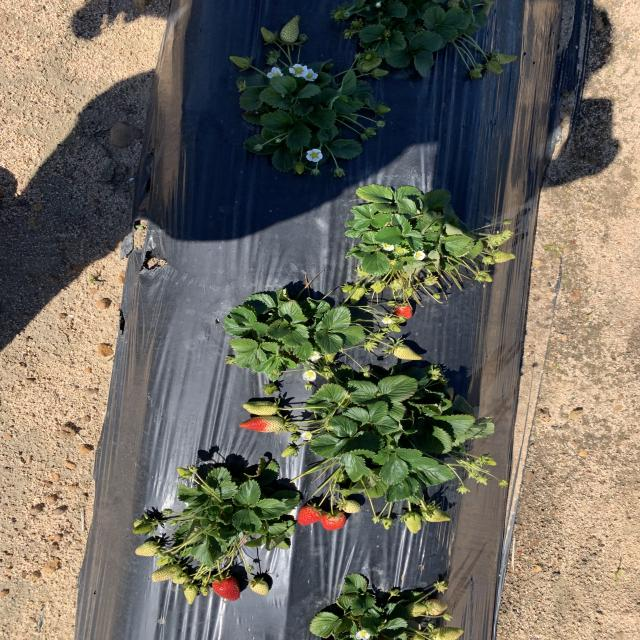unripe: (238, 417, 286, 434), (213, 577, 242, 602), (296, 504, 323, 526), (321, 512, 347, 530), (394, 304, 416, 321)
